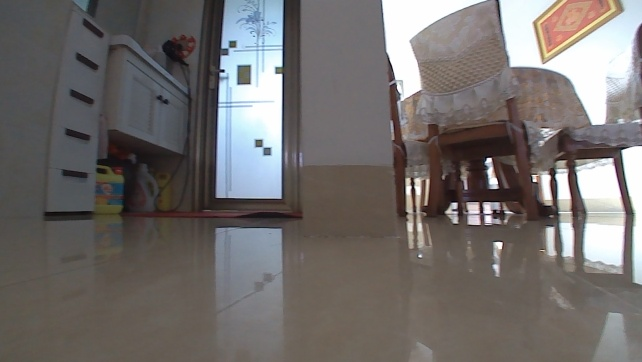blanket: (121, 210, 301, 218)
dining_table: (383, 0, 641, 221)
door_anno: (195, 0, 302, 216)
